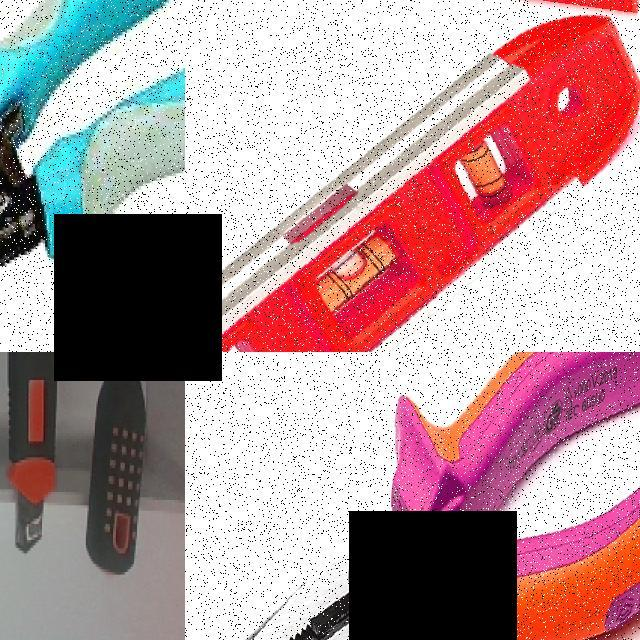estilete: (7, 353, 56, 551)
